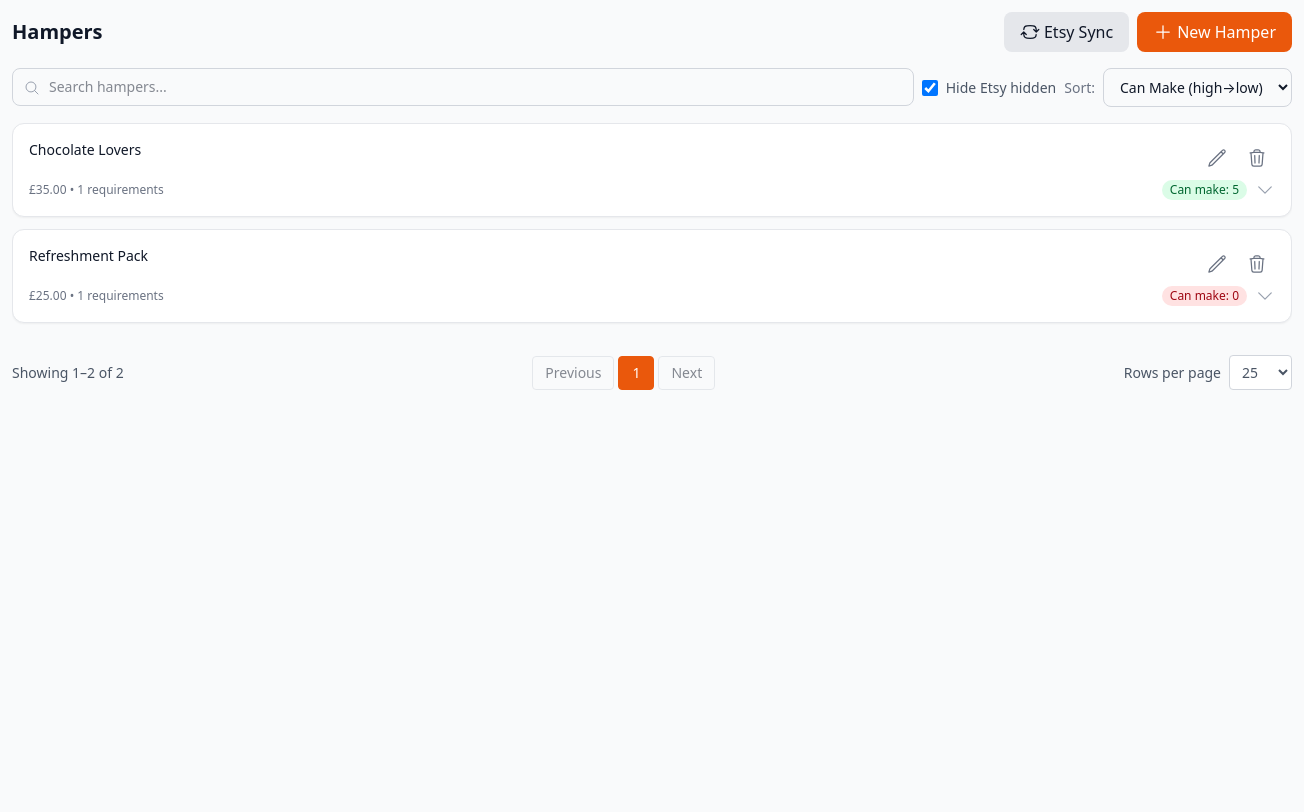
Test: Hampers › add hamper › can add requirement
The image size is (1304, 812).
Click the button "New Hamper": (1215, 32) x1=1137 y1=12 x2=1292 y2=52
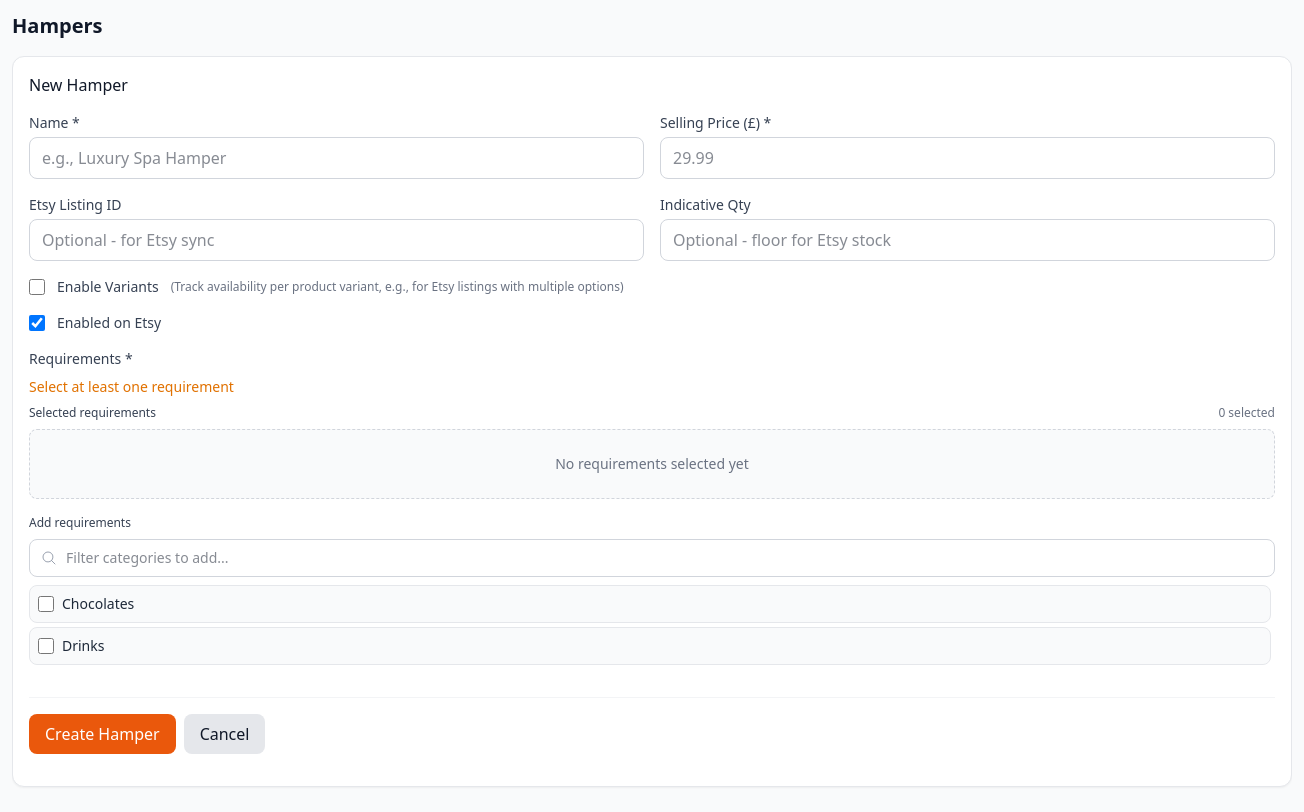
Click the checkbox named "add chocolates": (46, 604) x1=38 y1=596 x2=54 y2=612
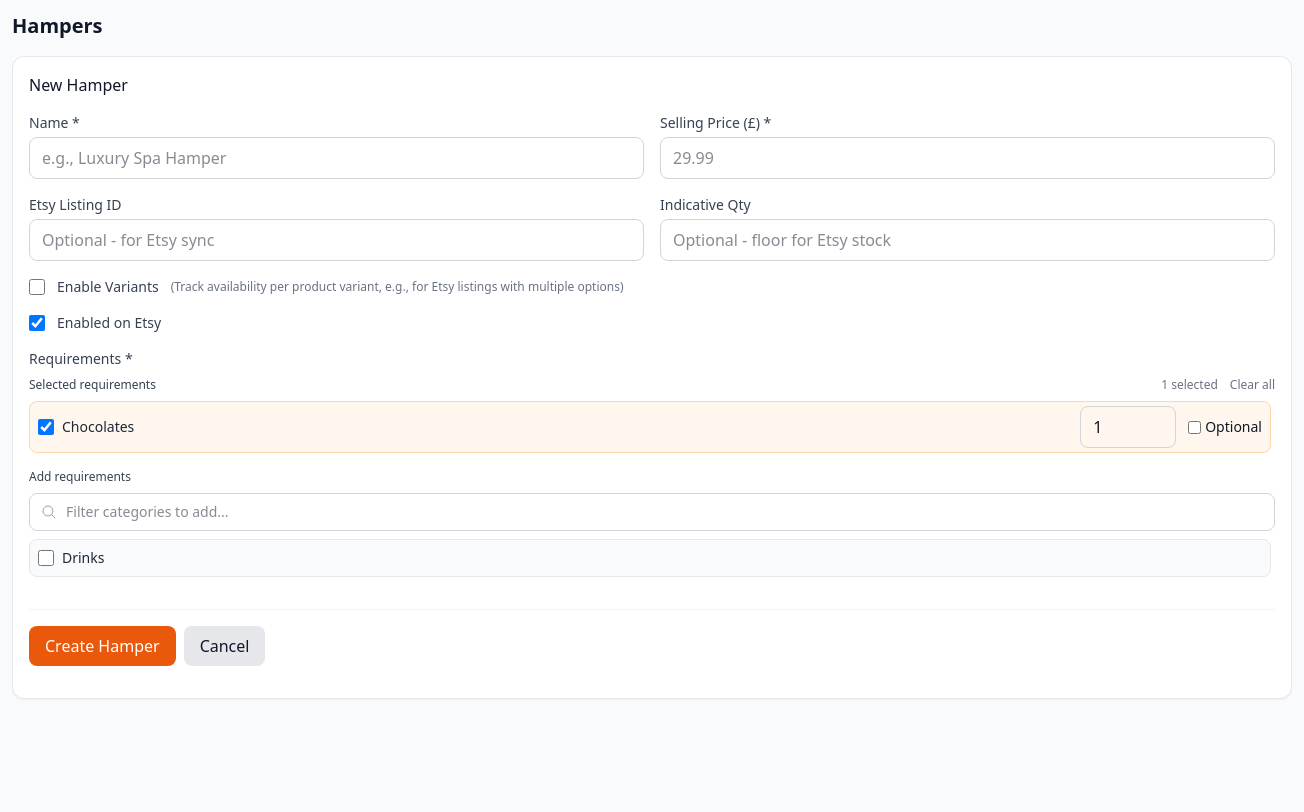
Check: the checkbox named "remove chocolates" is shown, box x1=38 y1=419 x2=54 y2=435
